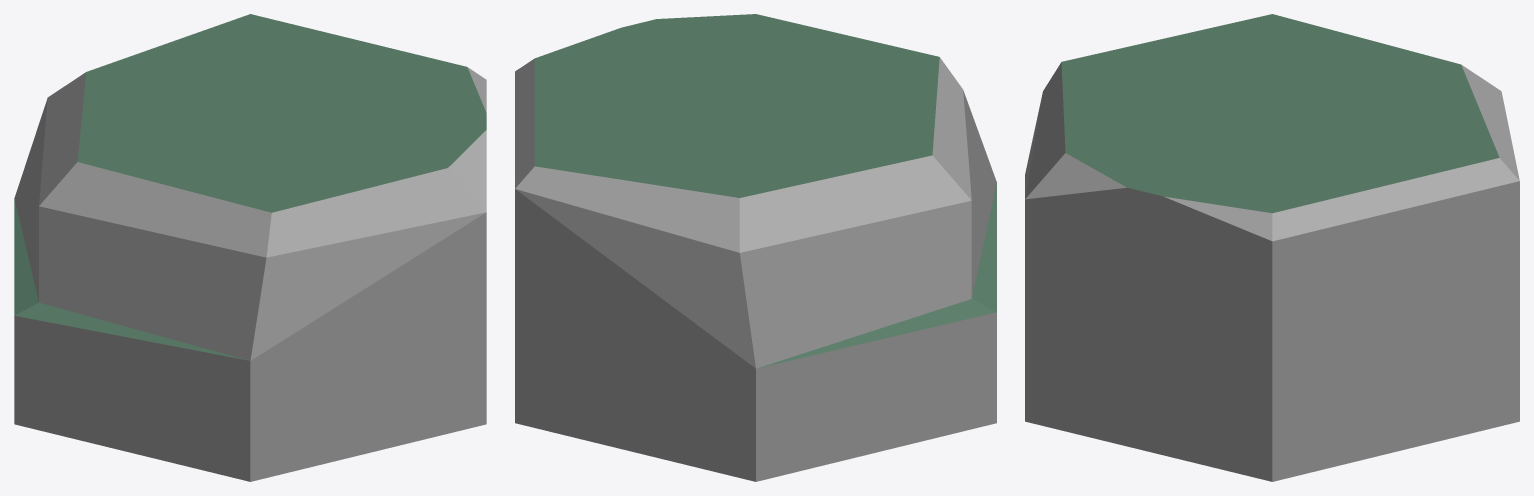
The model's file is HexBase3.fbx.
The picture shows the model from 3 angles, left to right: view 1: azimuth 30°, elevation 25°; view 2: azimuth 150°, elevation 25°; view 3: azimuth 270°, elevation 25°; orthographic projection. The views are drawn at different scales.
Visible parts, largest first — view 1: HexBase3; view 2: HexBase3; view 3: HexBase3.
Boxes of the visible parts, left/top/right/bottom form: HexBase3: left=14, top=14, right=486, bottom=481; HexBase3: left=515, top=14, right=996, bottom=481; HexBase3: left=1025, top=14, right=1519, bottom=481.
Bounding box in the file's own units: 2 × 1 × 1.73.
